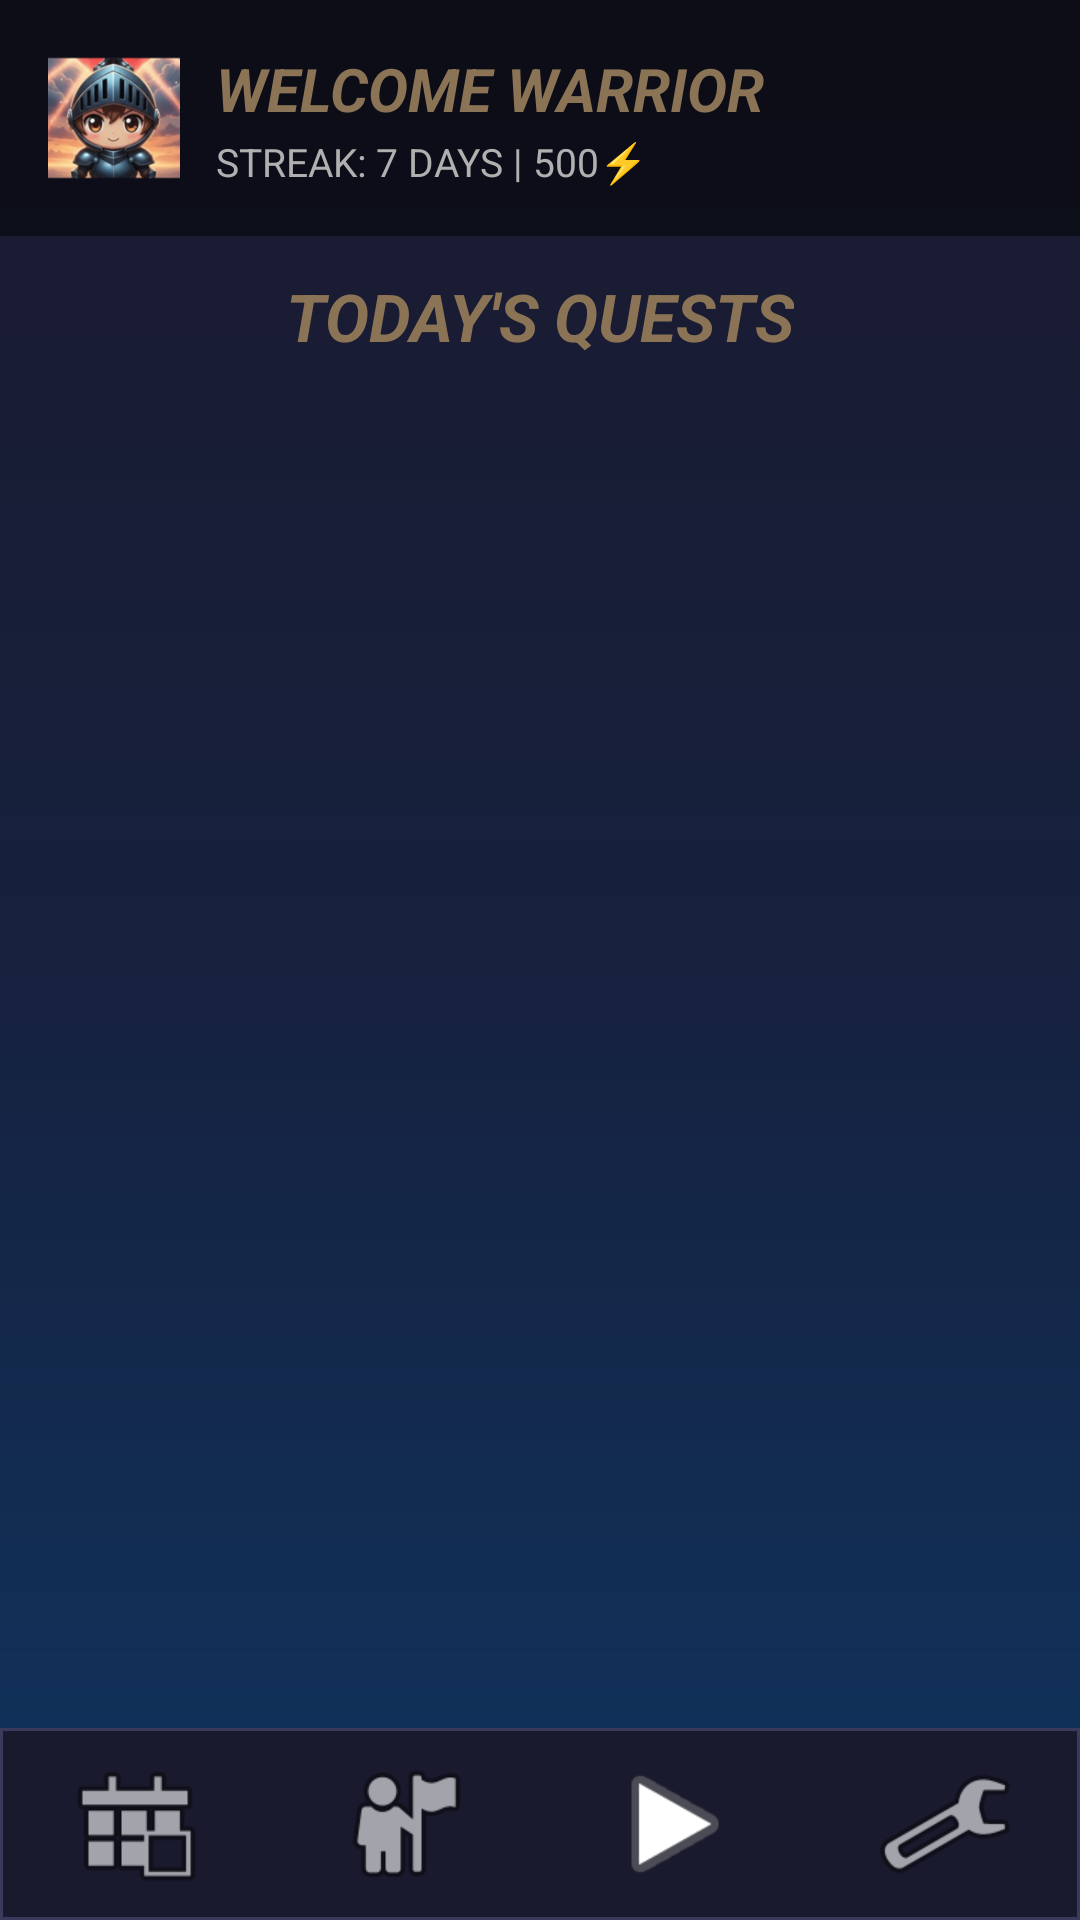

Icons on this 1080x1920 Android screen, each with the point to tap as [x,y]:
Settings: [945,1824]
